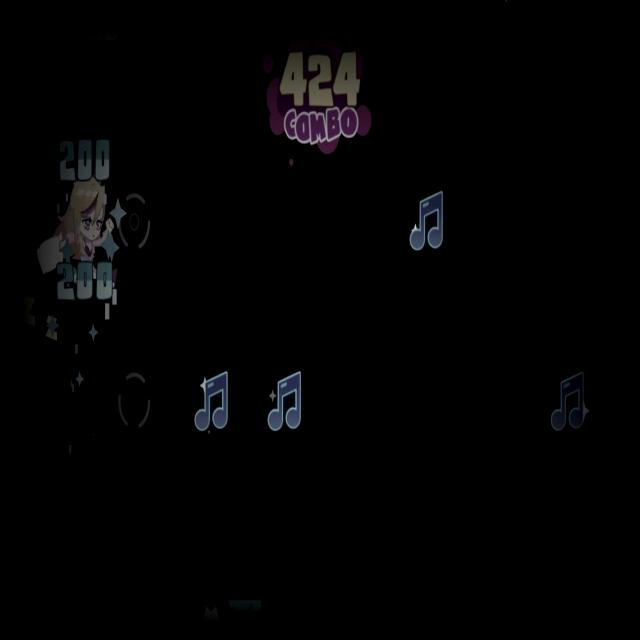Music note: (264, 366, 306, 441), (408, 185, 448, 258), (190, 366, 234, 431), (551, 372, 589, 432)
